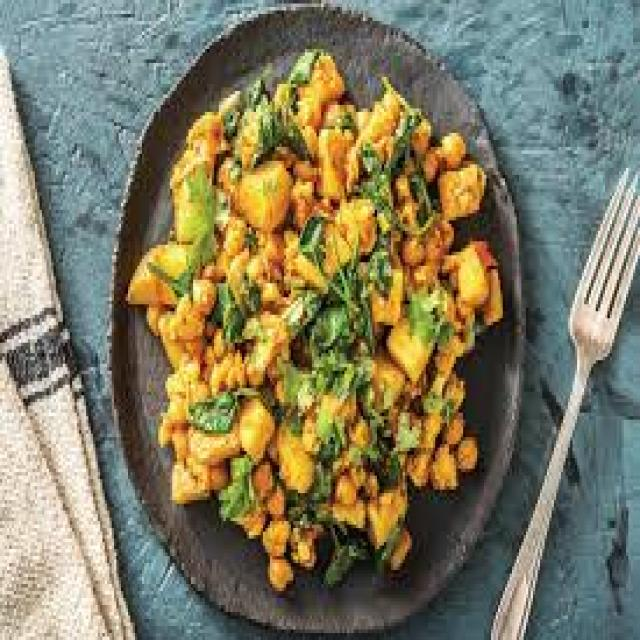Aloo Gobi: (168, 120, 460, 576)
